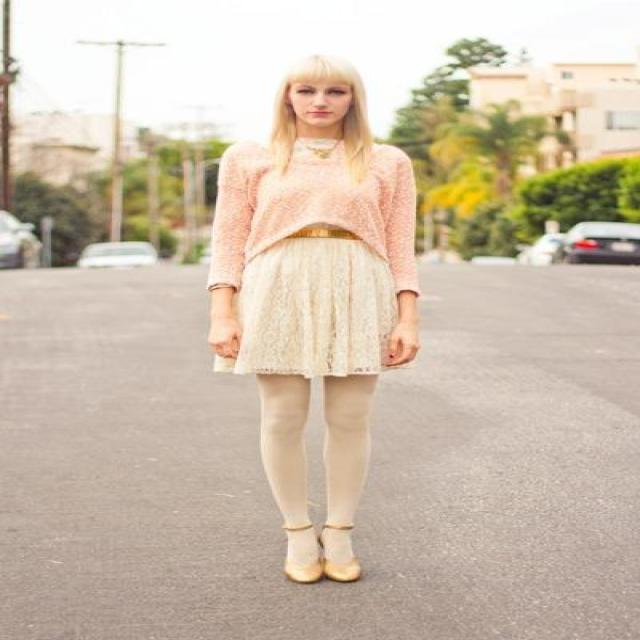shirt: (195, 138, 424, 288)
shoe: (285, 511, 358, 580)
skirt: (234, 238, 402, 387)
